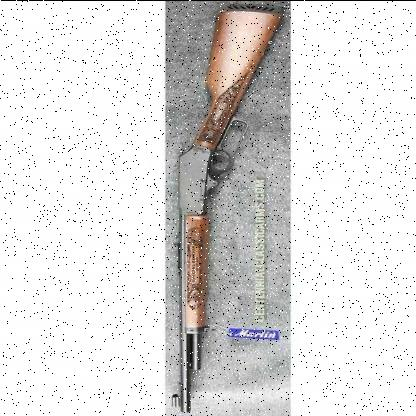rifle: (168, 1, 288, 416)
